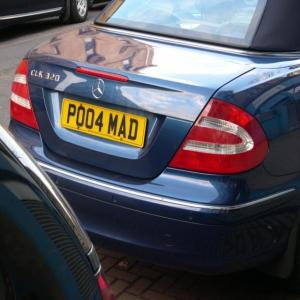Plate: (60, 99, 148, 148)
